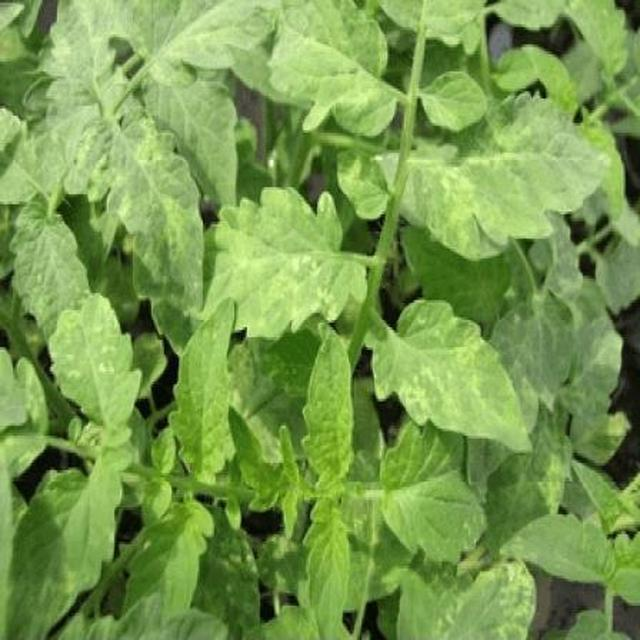Mosaic Virus Leaf: (90, 131, 640, 640)
